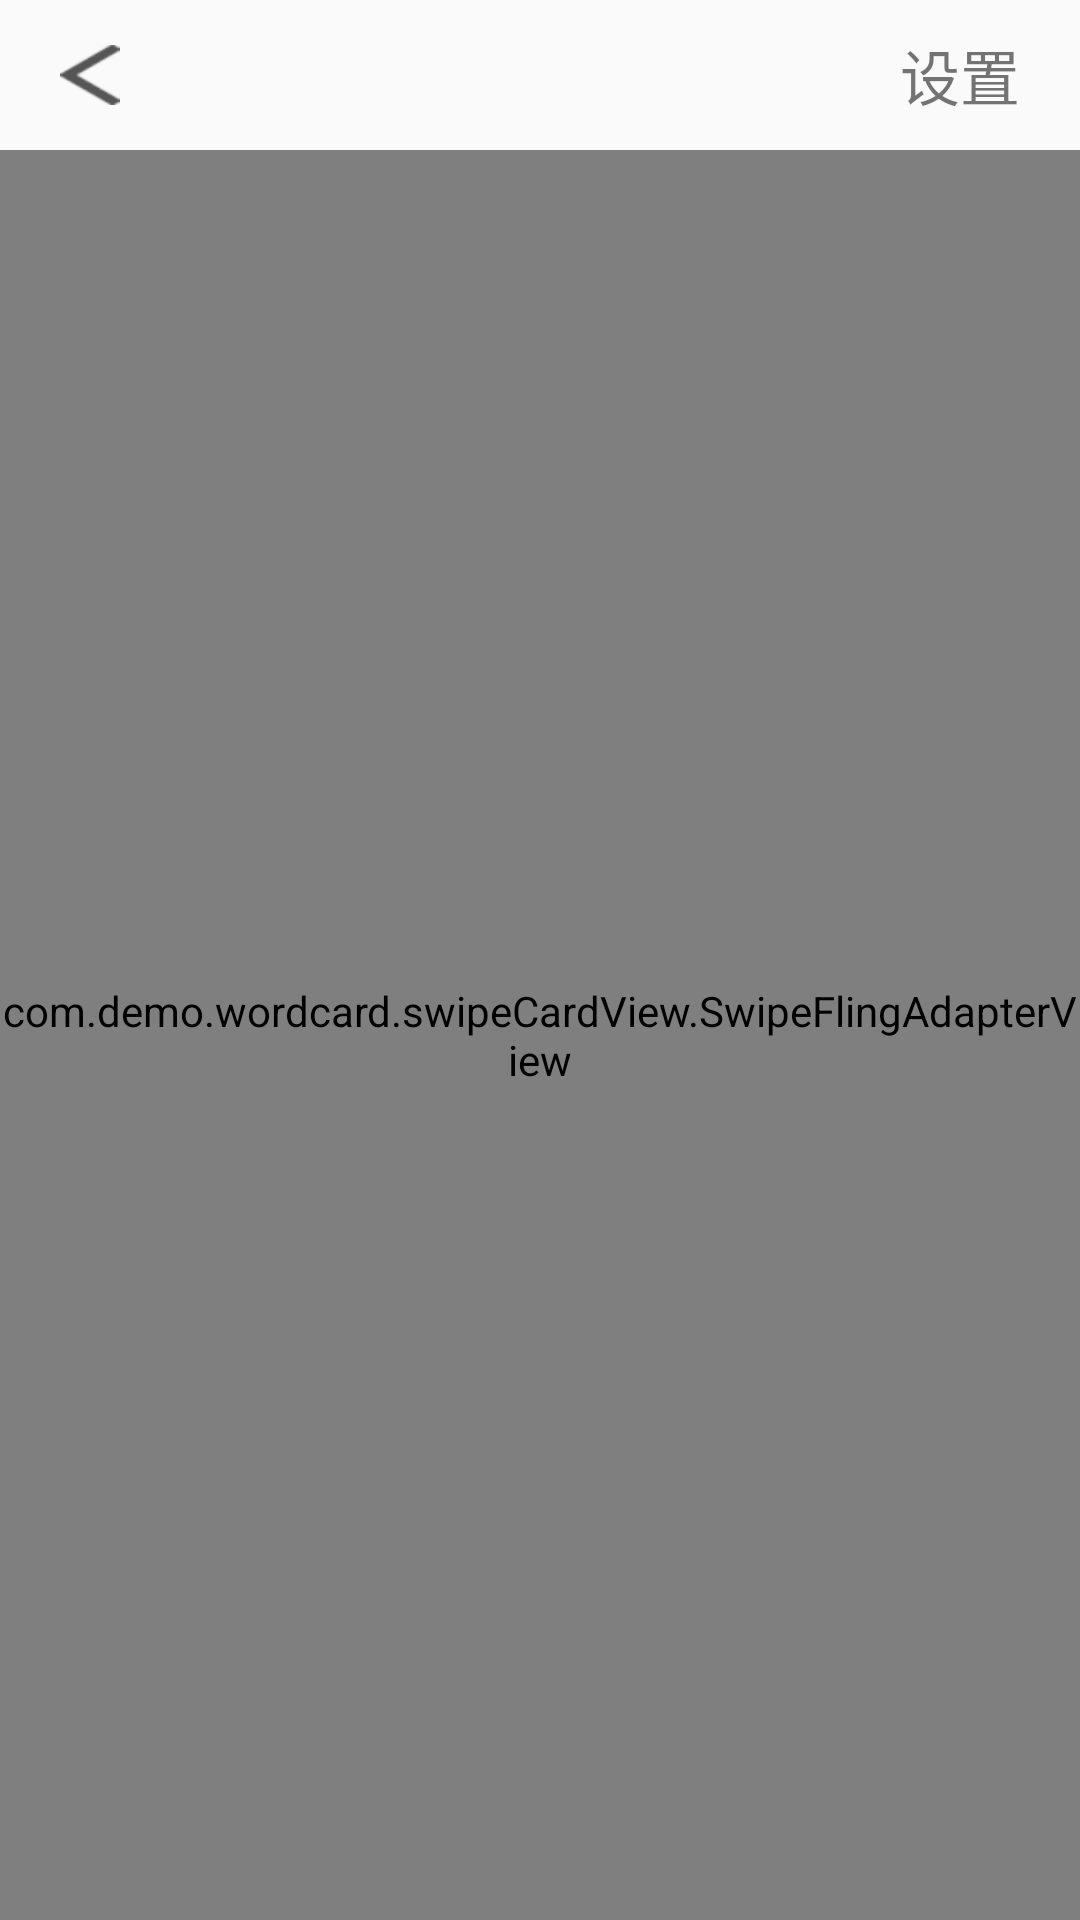

Screen size 1080×1920. Icon name, then its center in pixels as [x,y]:
back: [90,75]
